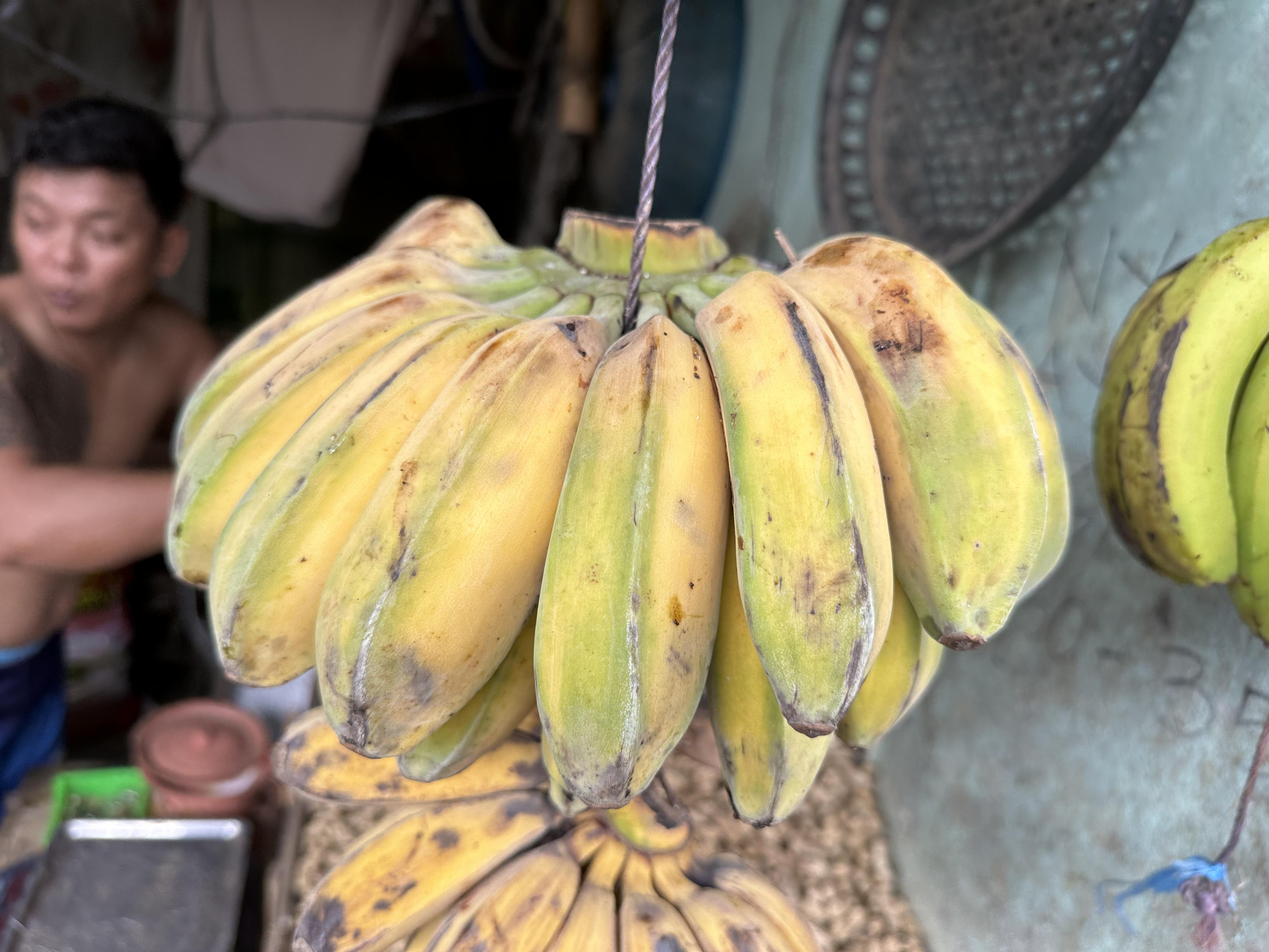ripe: (273, 707, 835, 952)
underripe: (164, 199, 1072, 829)
